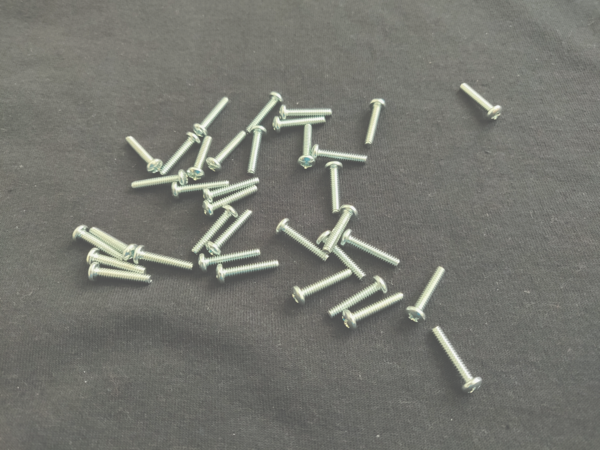longscrew: (432, 326, 484, 396), (327, 275, 389, 320), (316, 230, 368, 281), (275, 218, 331, 263), (342, 292, 405, 331), (191, 205, 240, 255), (340, 229, 401, 268), (206, 209, 255, 257), (291, 268, 354, 305), (406, 266, 446, 324), (71, 224, 124, 261), (159, 132, 202, 177), (88, 226, 139, 262), (202, 186, 259, 218), (460, 82, 504, 123), (323, 205, 359, 254), (207, 130, 248, 173), (245, 91, 284, 136), (85, 248, 147, 275), (214, 259, 280, 284), (132, 245, 194, 271), (125, 134, 164, 175), (198, 247, 261, 272), (203, 177, 261, 204), (194, 96, 229, 139), (87, 262, 153, 284), (131, 168, 189, 191), (363, 98, 387, 149), (188, 135, 214, 181), (171, 180, 230, 200), (311, 144, 369, 164), (324, 161, 345, 216), (247, 125, 269, 176), (272, 115, 327, 134), (279, 104, 333, 123), (298, 124, 317, 170)
